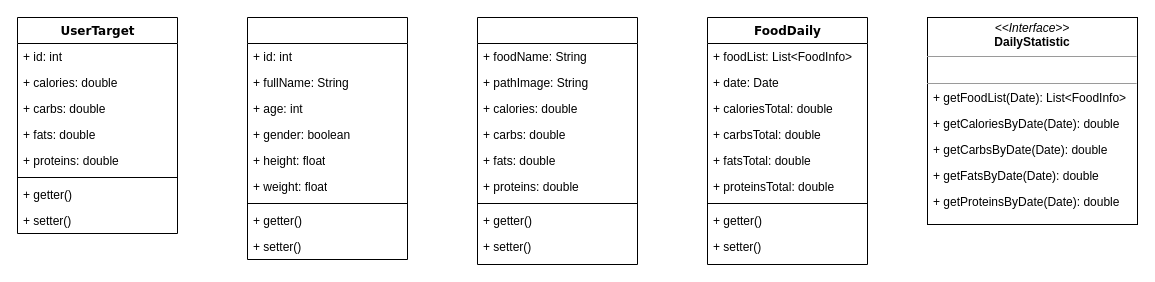
This 1155x282 diagram has some shape labels left out. The shapes that lost their labels are listed below. From the top down, each one's box as (x1, y1, x2, y2) in pixels, then its label:
(246, 16, 408, 260): UserInfo
(476, 16, 638, 264): FoodInfo
